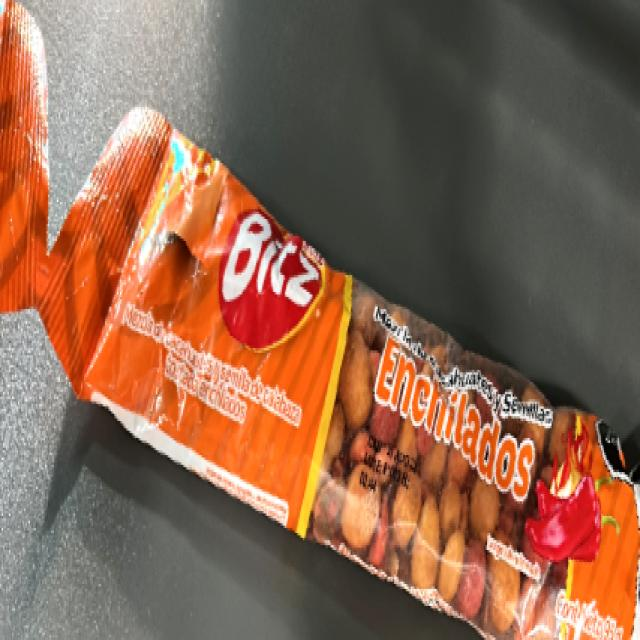bitzEnchilado95: (143, 229, 622, 552)
